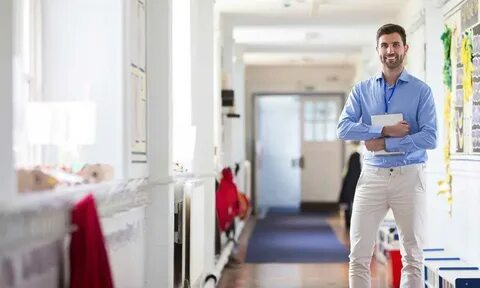awake: (336, 23, 439, 288)
